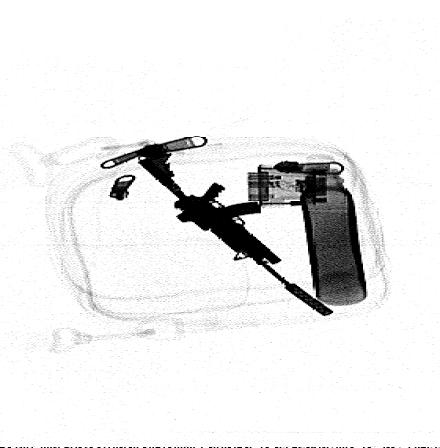Gun: (137, 152, 334, 316)
